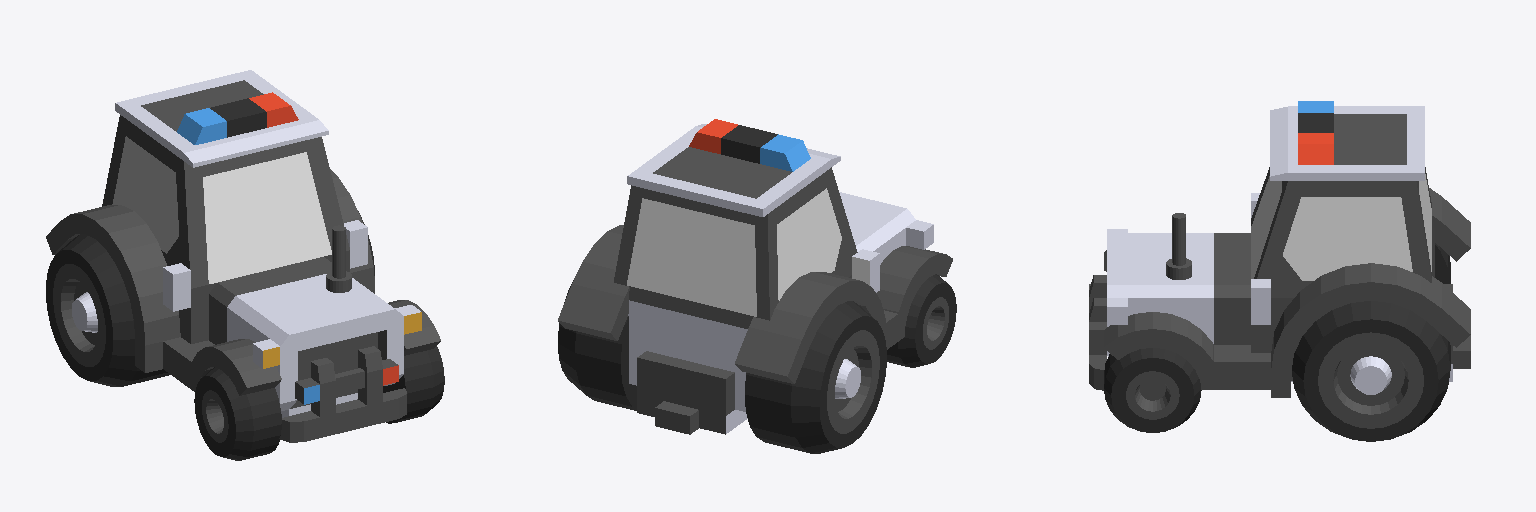
Rendered from tractorPolice.obj.
3 views of the same model, side by side, from view 1: azimuth 30°, elevation 25°; view 2: azimuth 150°, elevation 25°; view 3: azimuth 270°, elevation 25° (orthographic).
Visible parts, largest first — view 1: body, skirts, wheel_backRight, grill, wheel_frontRight, wheel_frontLeft; view 2: body, skirts, wheel_backRight, wheel_backLeft, wheel_frontRight; view 3: body, skirts, wheel_backLeft, wheel_frontLeft, grill.
Part boxes in pixels (x1,y1,x2,y2): body: (102,70,421,417); skirts: (46,169,440,395); wheel_backRight: (46,234,169,386); grill: (279,346,406,442); wheel_frontRight: (194,367,281,460); wheel_frontLeft: (383,346,444,423); body: (614,119,933,434); skirts: (558,225,952,383); wheel_backRight: (745,301,886,453); wheel_backLeft: (558,280,636,410); wheel_frontRight: (887,274,956,367); body: (1107,101,1470,381); skirts: (1104,188,1470,397); wheel_backLeft: (1292,301,1450,441); wheel_frontLeft: (1104,348,1201,432); grill: (1089,275,1106,390).
Size of the model in its own units: 1.66 by 1.61 by 2.1.